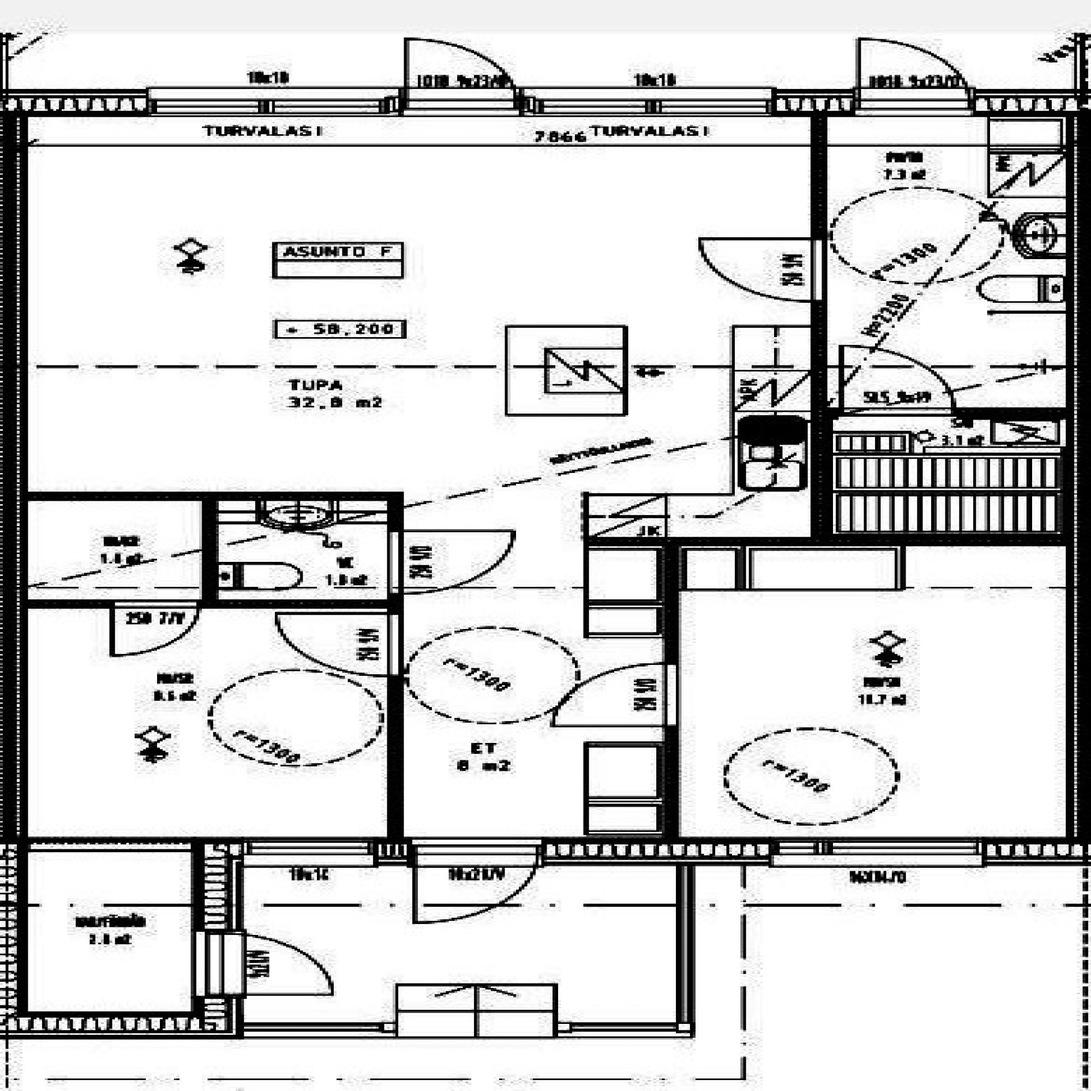wall: (4, 89, 1086, 114), (0, 118, 28, 1010), (0, 835, 1083, 858), (1066, 117, 1091, 836), (656, 550, 687, 834), (811, 116, 831, 535), (191, 861, 245, 1006), (247, 1022, 694, 1039), (3, 1009, 241, 1040), (587, 536, 1078, 548), (388, 493, 401, 835), (29, 491, 383, 501), (677, 865, 696, 1021), (834, 407, 1063, 419), (201, 502, 218, 608), (220, 599, 384, 609), (29, 599, 198, 608)
